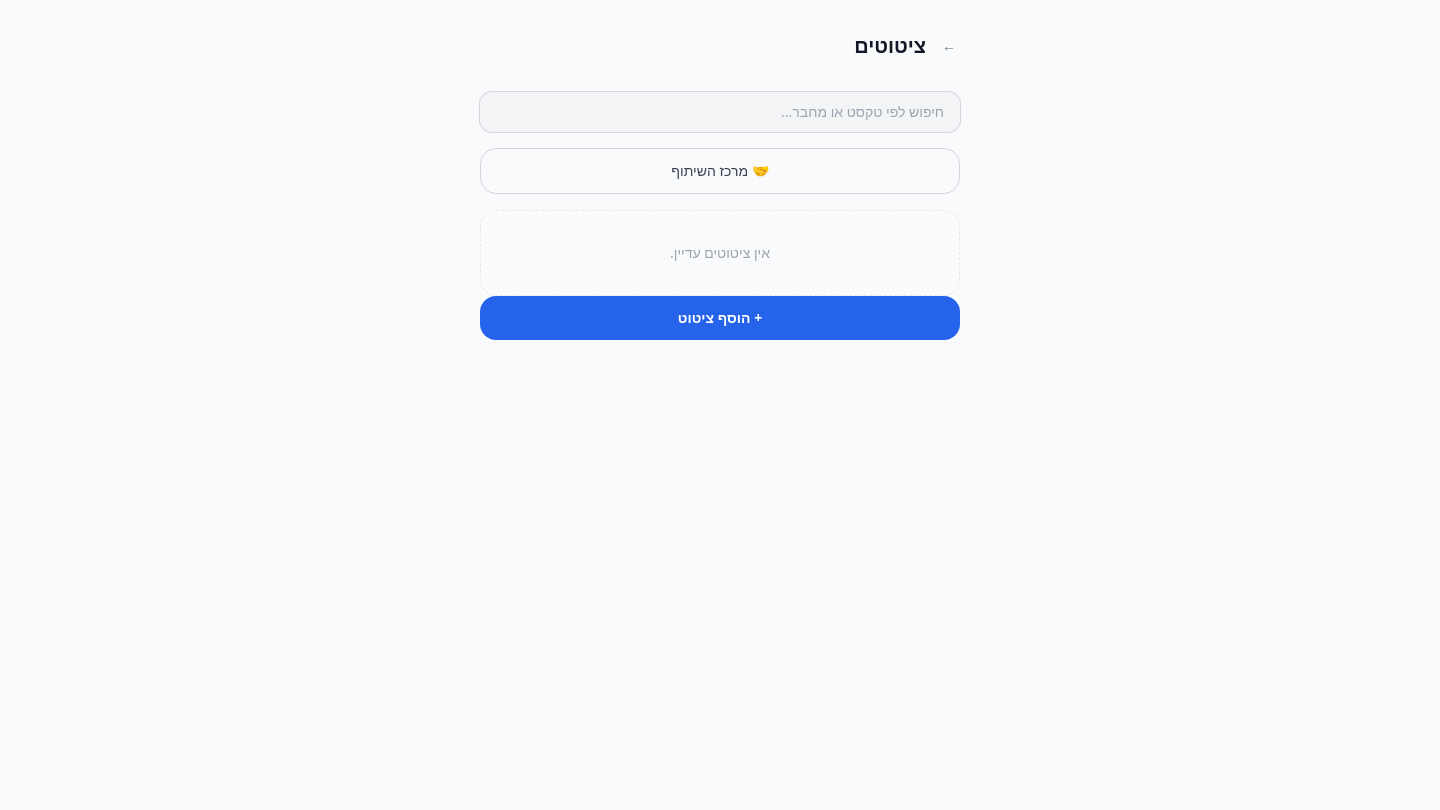
Scenario: CitationsScreen › shows author formatting preview while typing
The width and height of the screenshot is (1440, 810).
Click the button "+ הוסף ציטוט" at [720, 318], box x1=480 y1=296 x2=960 y2=340
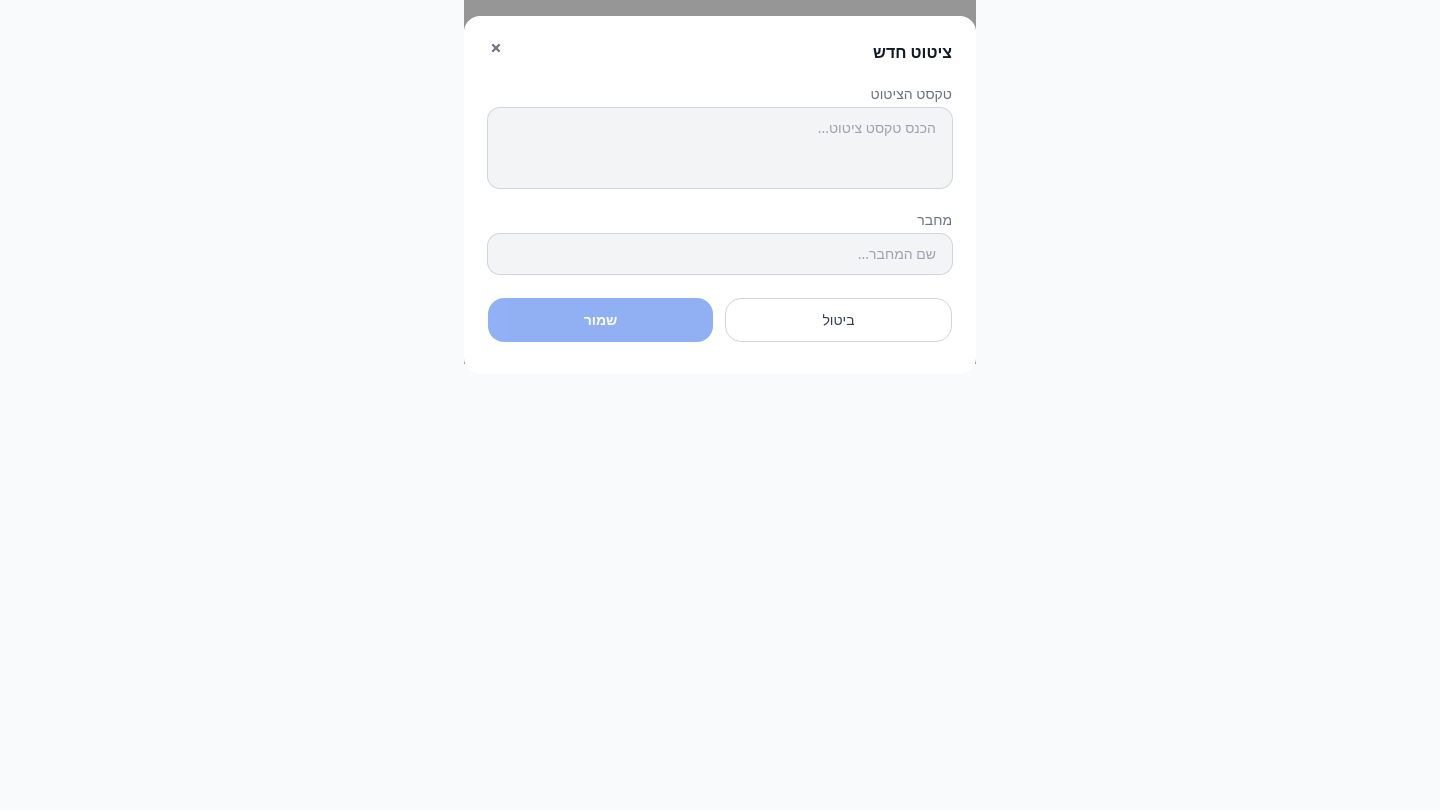
Type "יוסי ישראלי" into the field with placeholder "שם המחבר..." at [720, 254], box x1=488 y1=234 x2=952 y2=274
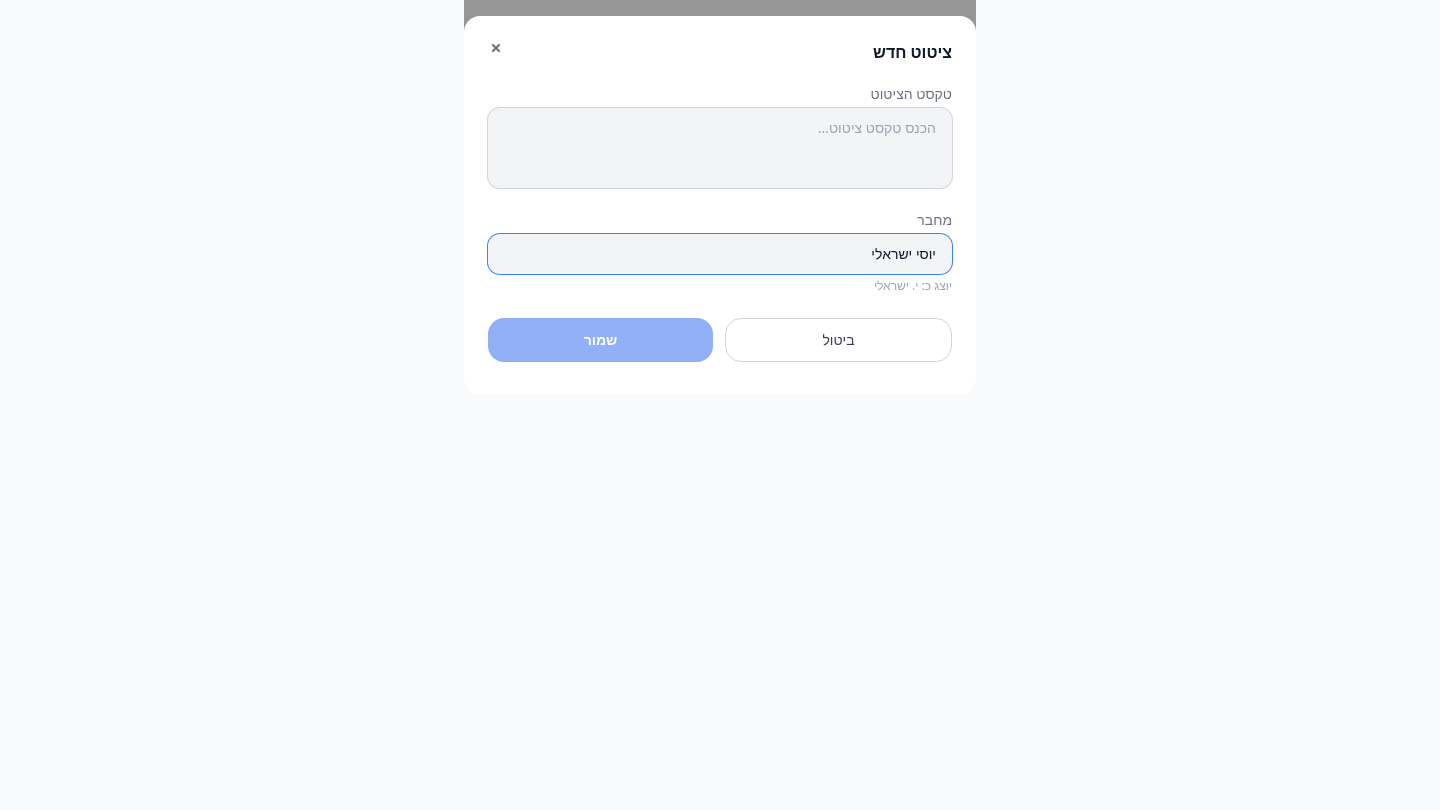
Result: the text "יוצג כ: י. ישראלי" is shown at x1=874 y1=277 x2=952 y2=294
